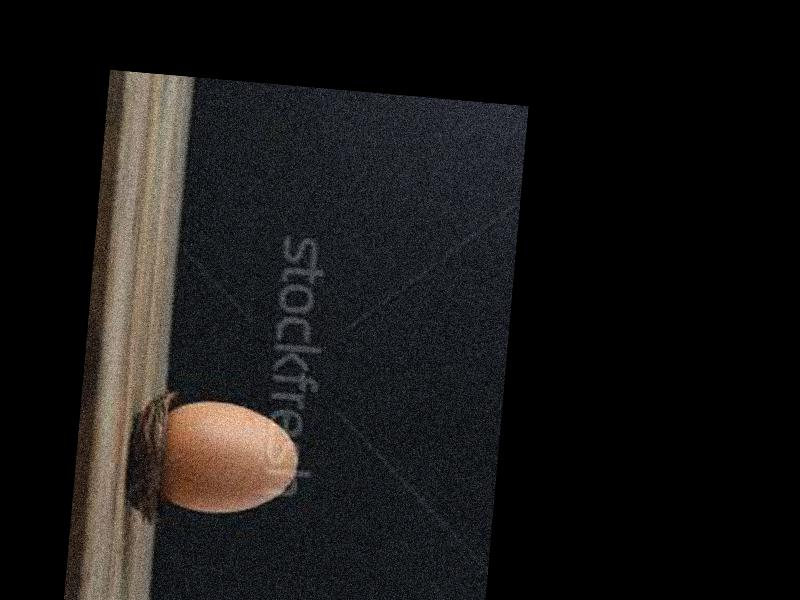Eggs: (156, 400, 301, 521)
